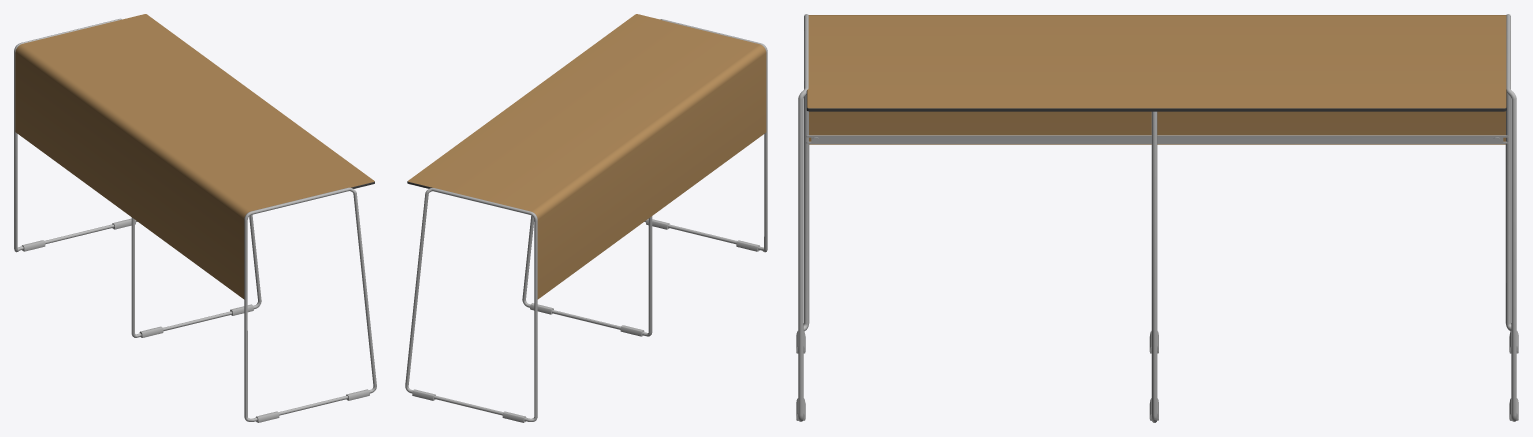
Rendered from Table_1.fbx.
3 views of the same model, side by side, from view 1: azimuth 30°, elevation 25°; view 2: azimuth 150°, elevation 25°; view 3: azimuth 270°, elevation 25° (orthographic). The views are drawn at different scales.
Visible parts, largest first — view 1: Table_01; view 2: Table_01; view 3: Table_01.
Part boxes in pixels (x1,y1,x2,y2): Table_01: (14, 14, 376, 422); Table_01: (405, 14, 767, 422); Table_01: (796, 14, 1518, 422).
Bounding box in the file's own units: 64.67 × 98.73 × 202.
